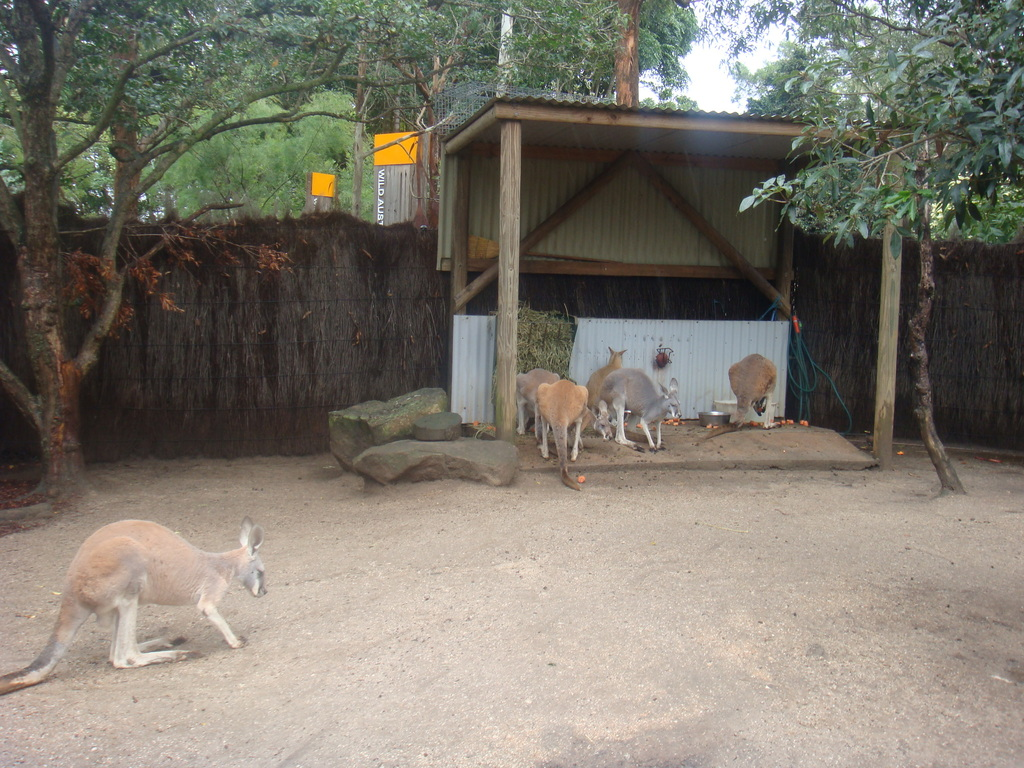kangaroo: (529, 380, 588, 488), (730, 353, 778, 434)
